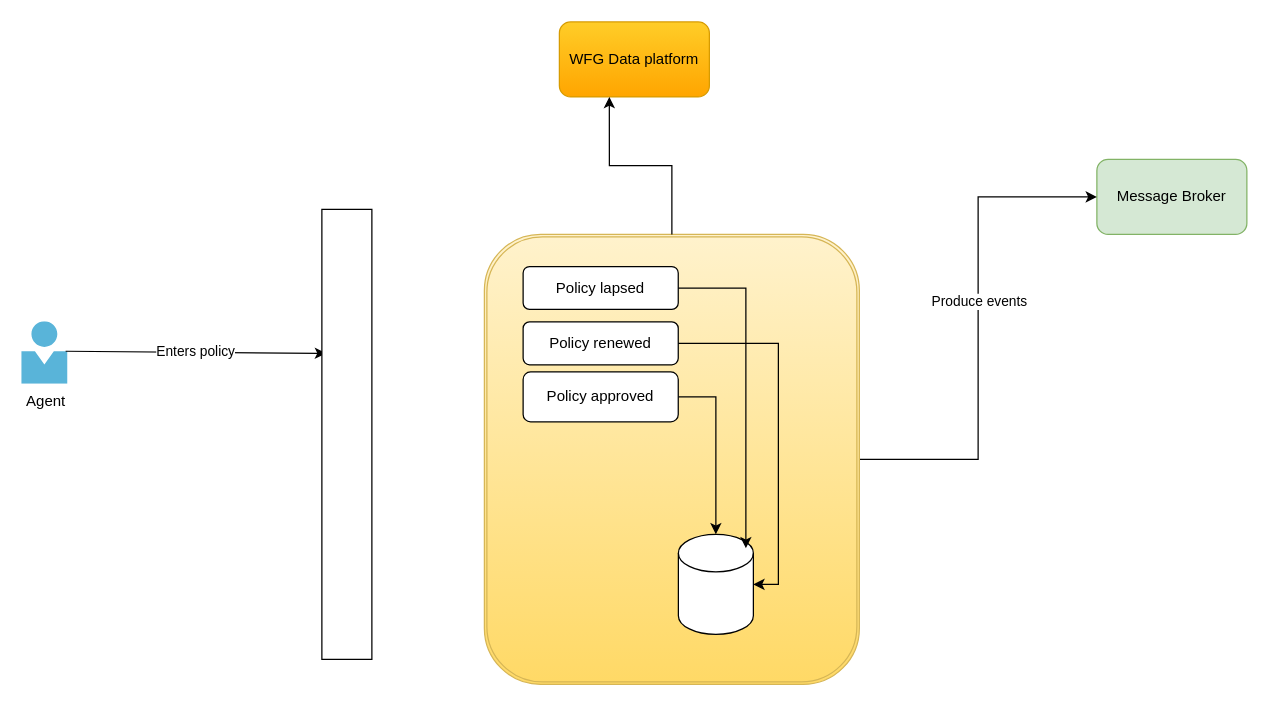
The diagram is 1269 pixels wide and 706 high, and some of its shapes have lost their labels. Here are the shapes that lost their labels. From the top down, the box of each, then its label:
(321, 208, 372, 659): Store front
(483, 233, 859, 684): Agent Domain
(677, 533, 753, 634): DB
